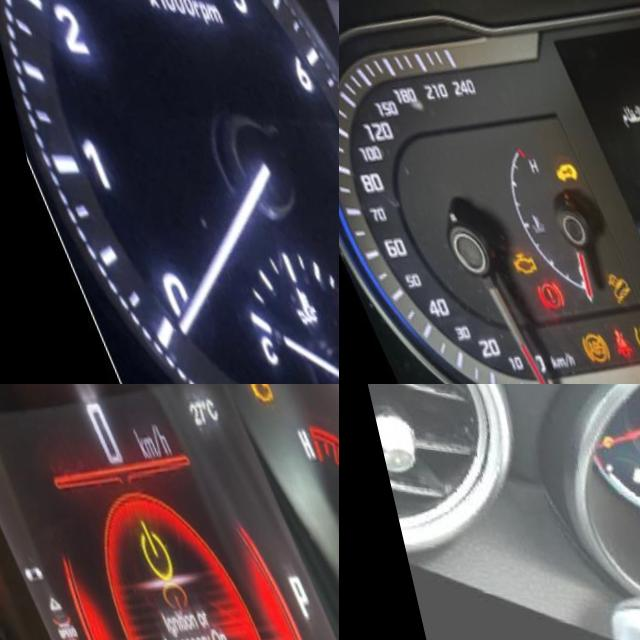security: (535, 154, 567, 181)
